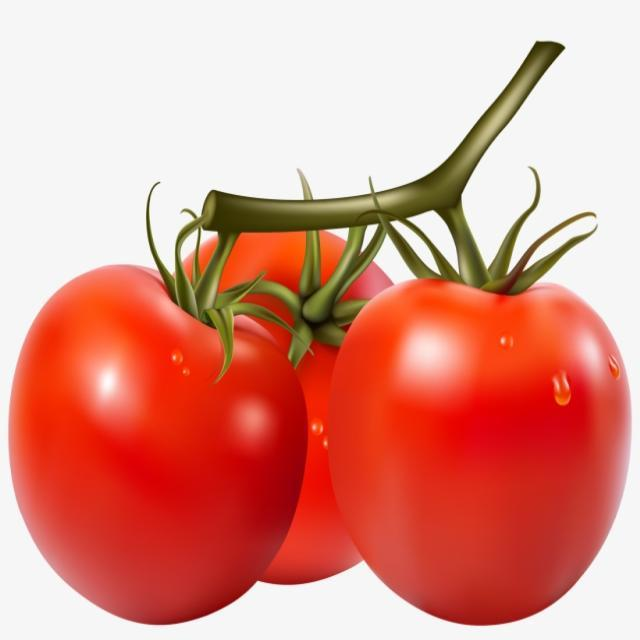kirmizi: (0, 176, 640, 632)
